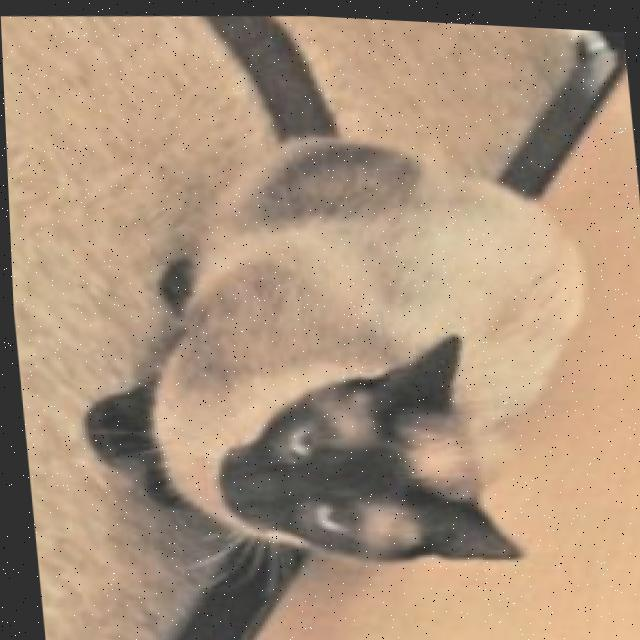Siamese: (40, 2, 614, 587)
